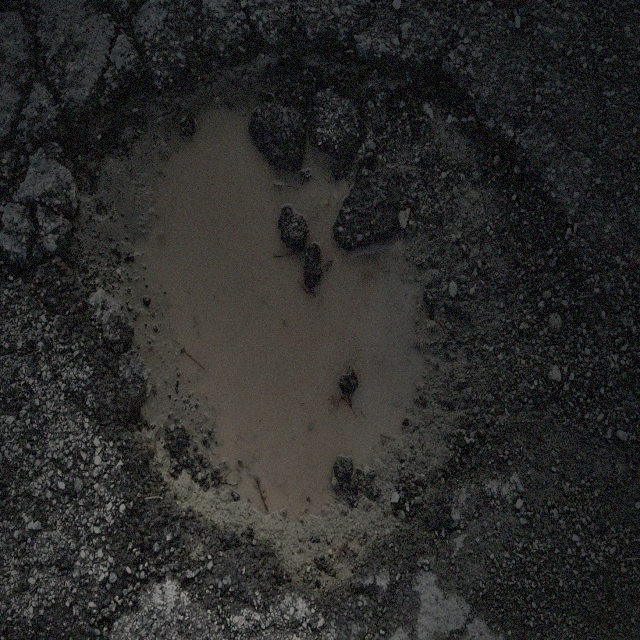pothole: (60, 43, 571, 558)
